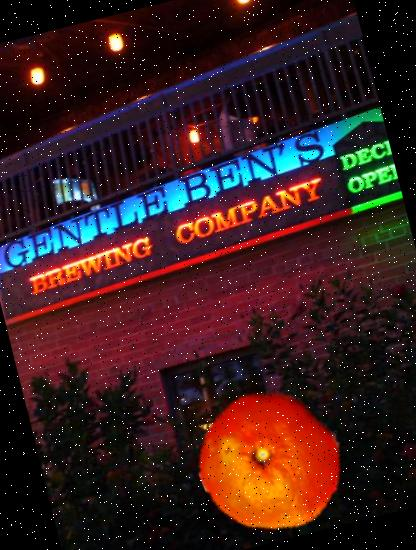Clementine: (183, 370, 362, 550)
